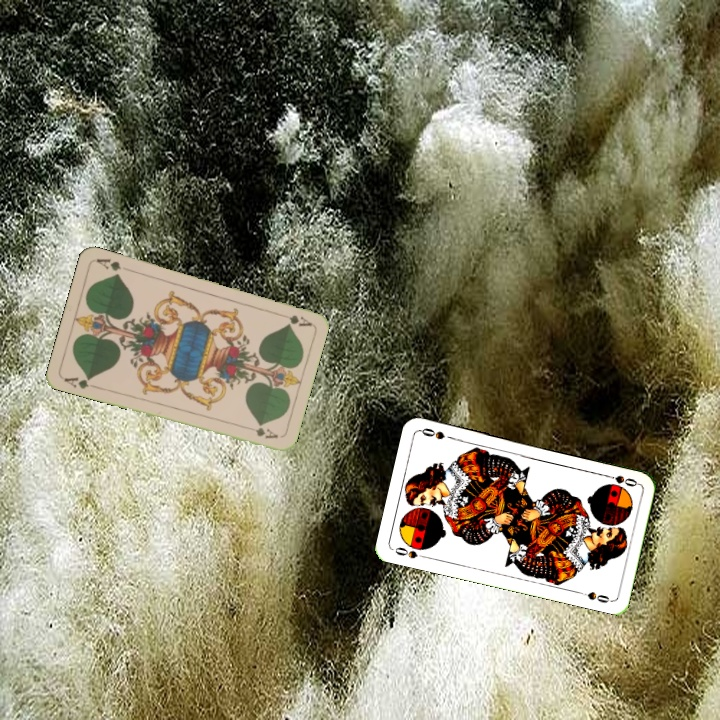GA: (274, 309, 314, 329), (60, 373, 100, 392)
SO: (600, 470, 640, 489), (389, 543, 430, 561)
